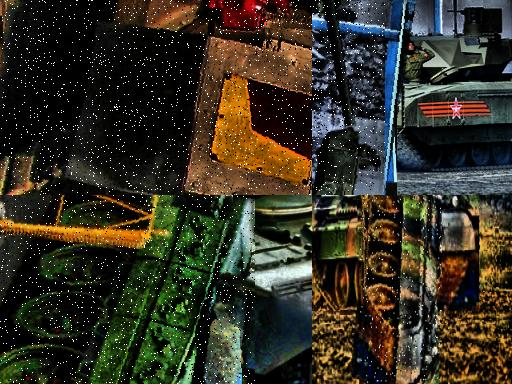tanks: (1, 1, 313, 196), (1, 196, 256, 384), (313, 10, 512, 172), (361, 198, 442, 384)
